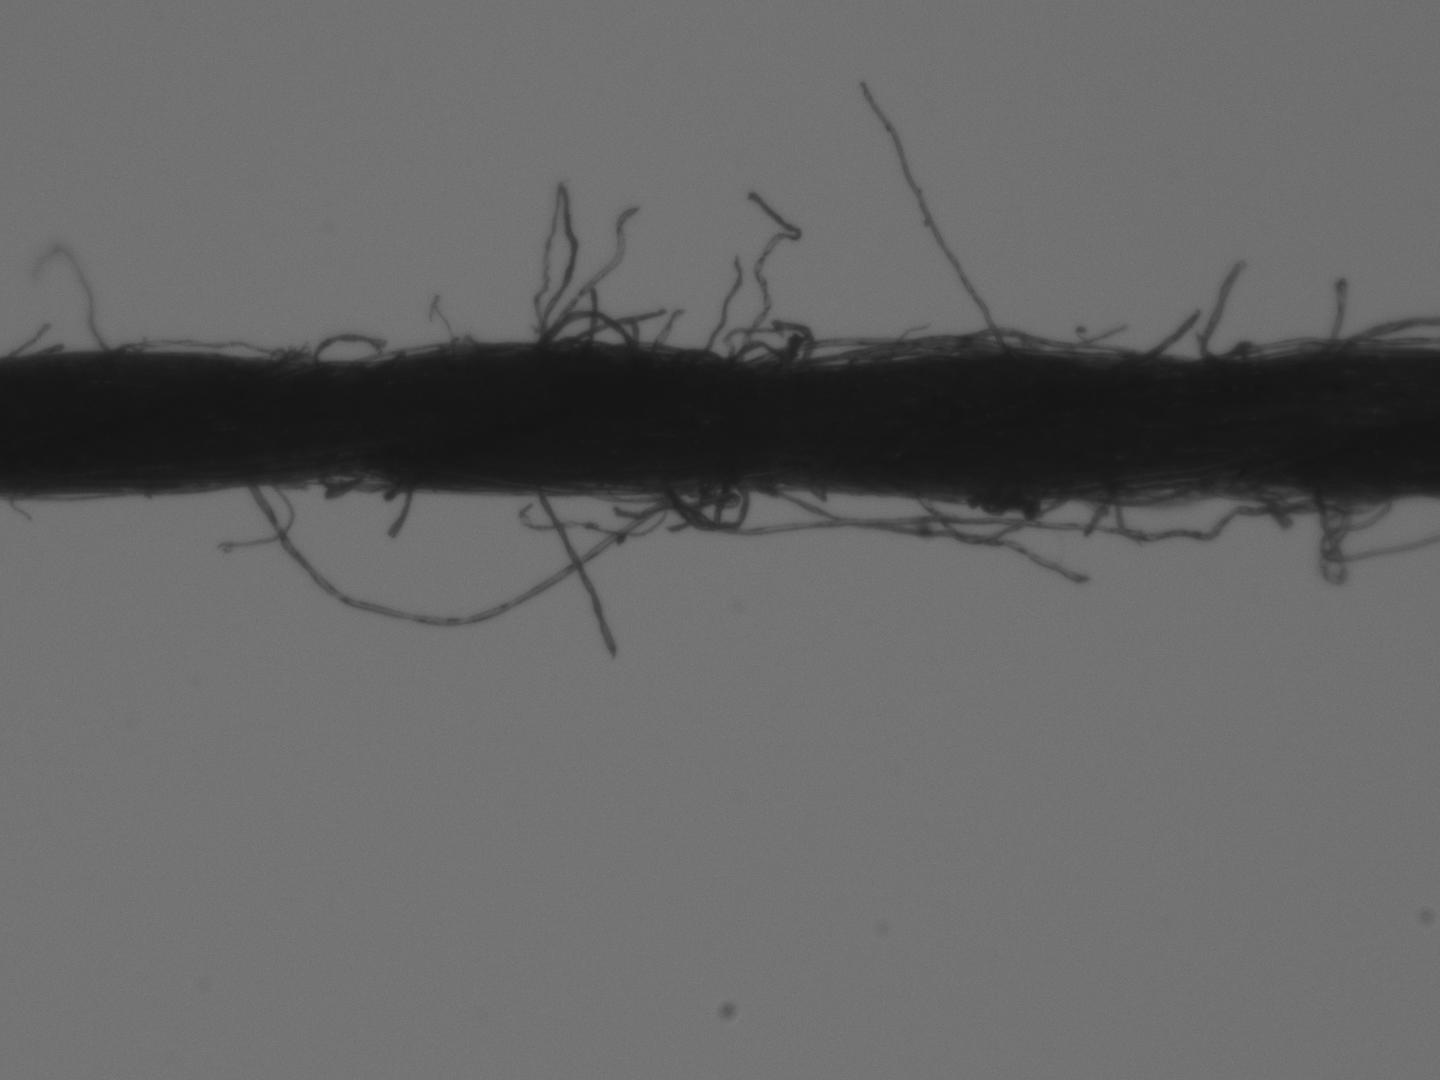loop_fiber: (247, 475, 679, 628), (1113, 481, 1359, 542), (914, 492, 1054, 551), (937, 324, 1121, 355), (652, 484, 745, 533), (723, 323, 811, 364), (540, 307, 636, 344)
protruding_fiber: (859, 73, 999, 349), (531, 489, 620, 661), (541, 203, 637, 341), (1195, 258, 1248, 363), (698, 253, 744, 352), (1136, 309, 1201, 360), (1318, 276, 1349, 366), (384, 487, 415, 545), (652, 310, 680, 343)
